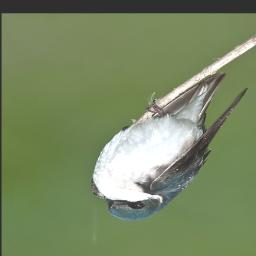Swallow: (87, 71, 249, 225)
